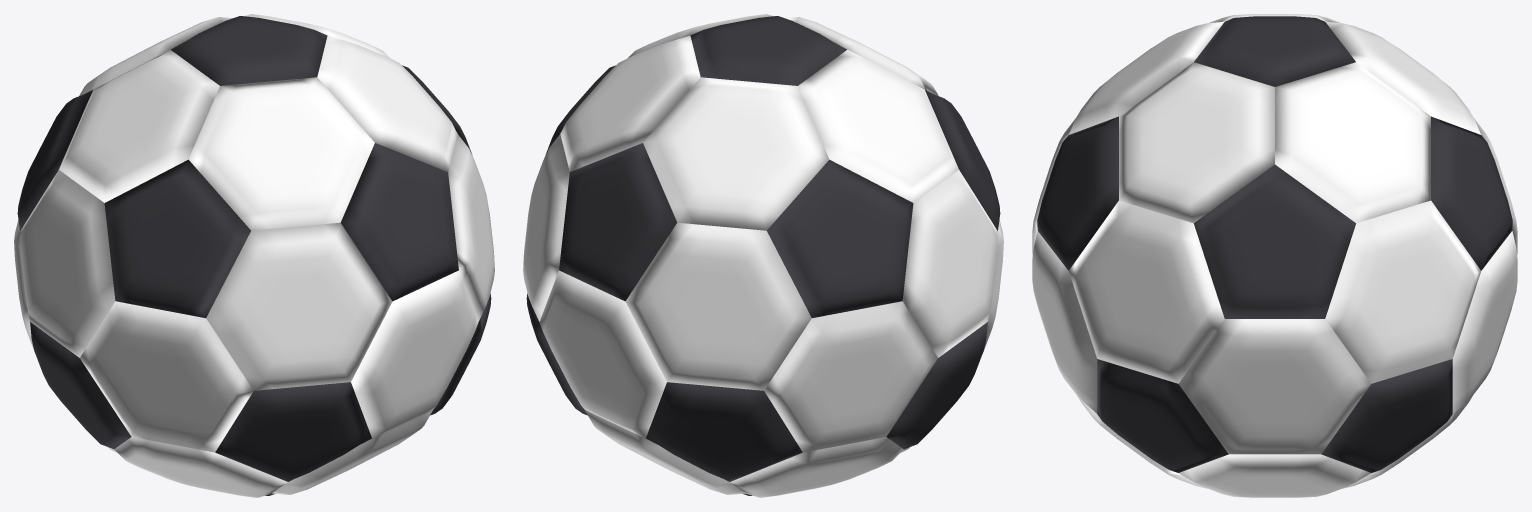
File: soccer-ball.glb
3 renders of one model, left to right at view 1: azimuth 30°, elevation 25°; view 2: azimuth 150°, elevation 25°; view 3: azimuth 270°, elevation 25°, orthographic.
Parts seen in each view (by area): view 1: Icosphere; view 2: Icosphere; view 3: Icosphere.
Part boxes in pixels (x1,y1,x2,y2): Icosphere: (14,14,494,497); Icosphere: (523,14,1003,497); Icosphere: (1032,14,1517,497).
Bounding box in the file's own units: 1.73 × 1.72 × 1.74.
1 material, 1 textured.
